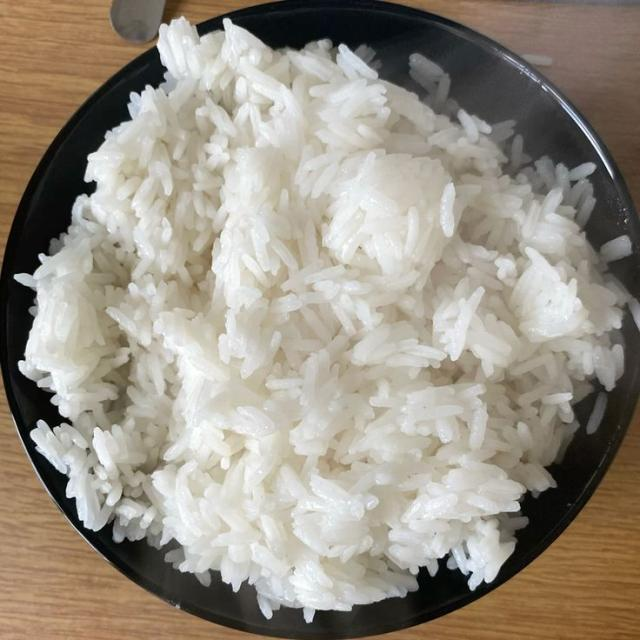rice: (19, 20, 630, 620), (600, 235, 632, 262), (522, 54, 553, 66)
